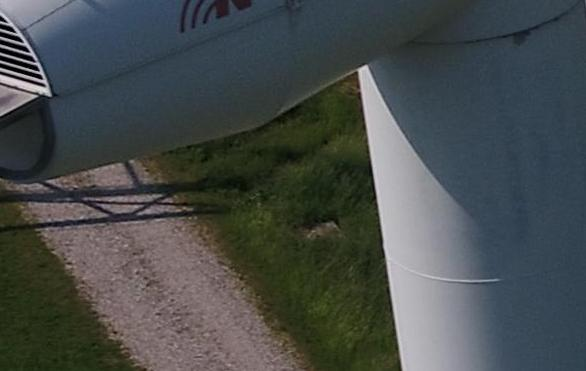damage: (510, 30, 531, 46)
